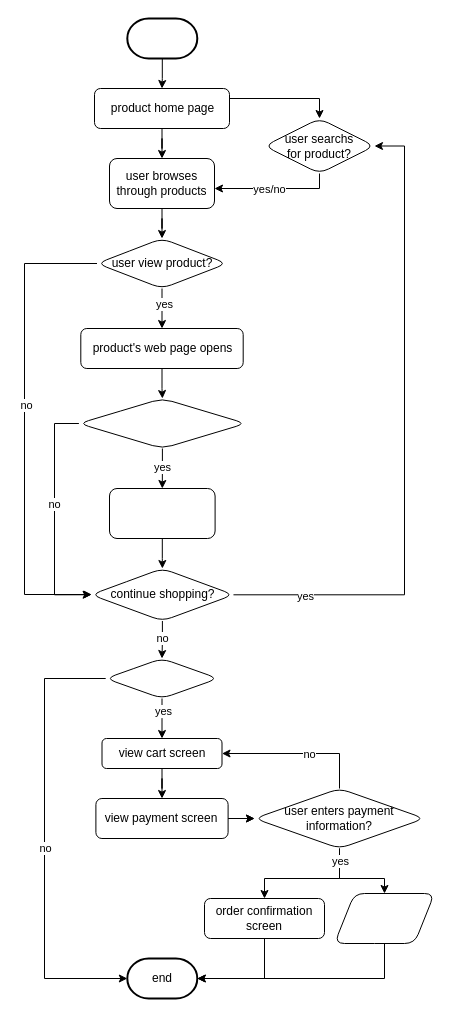
The diagram is 452 pixels wide and 1016 high, and some of its shapes have lost their labels. The shapes that lost their labels are listed below. From the top down, each one's centre as x and y in pixels, then its label:
the point at 162,38: start
the point at 162,423: user add item to cart?
the point at 161,513: added to cart confirmation
the point at 161,678: checkout?
the point at 384,918: order confirmation email
